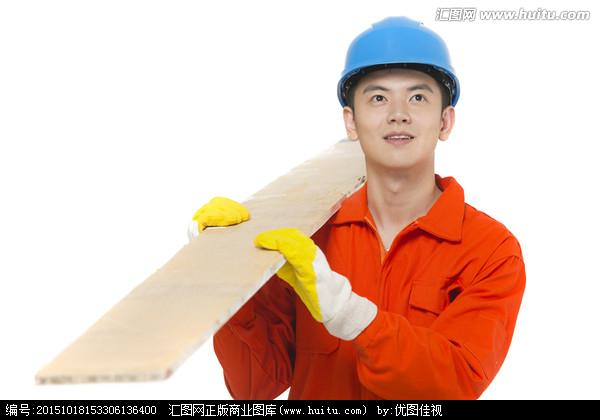helmet: (336, 17, 462, 111)
